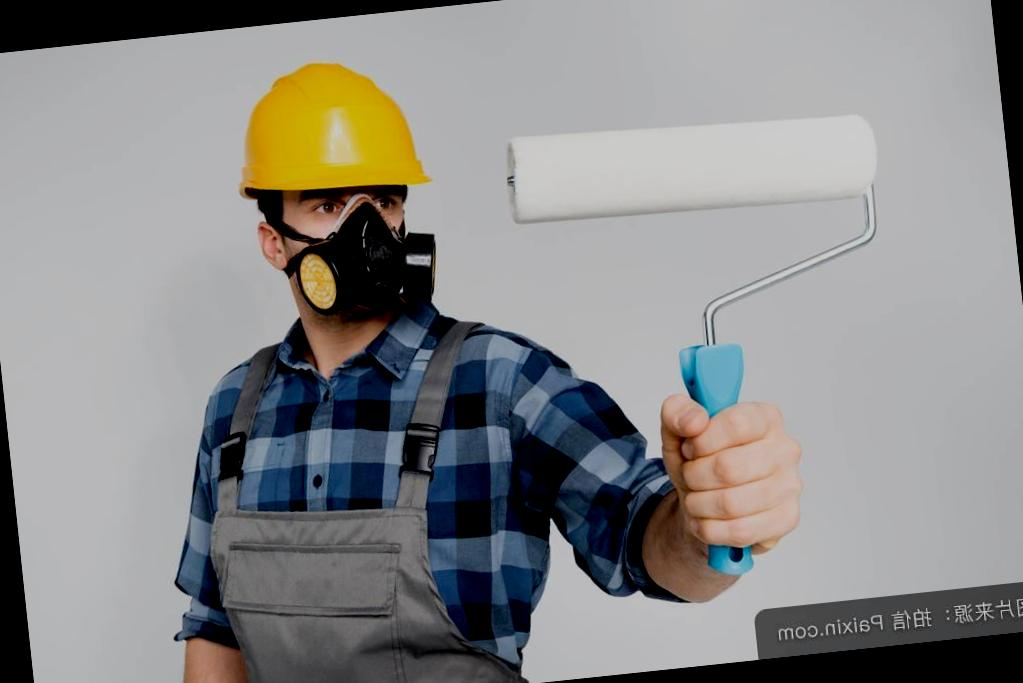helmet: (218, 45, 435, 222)
no_vest: (158, 303, 567, 683)
person: (112, 35, 582, 683)
